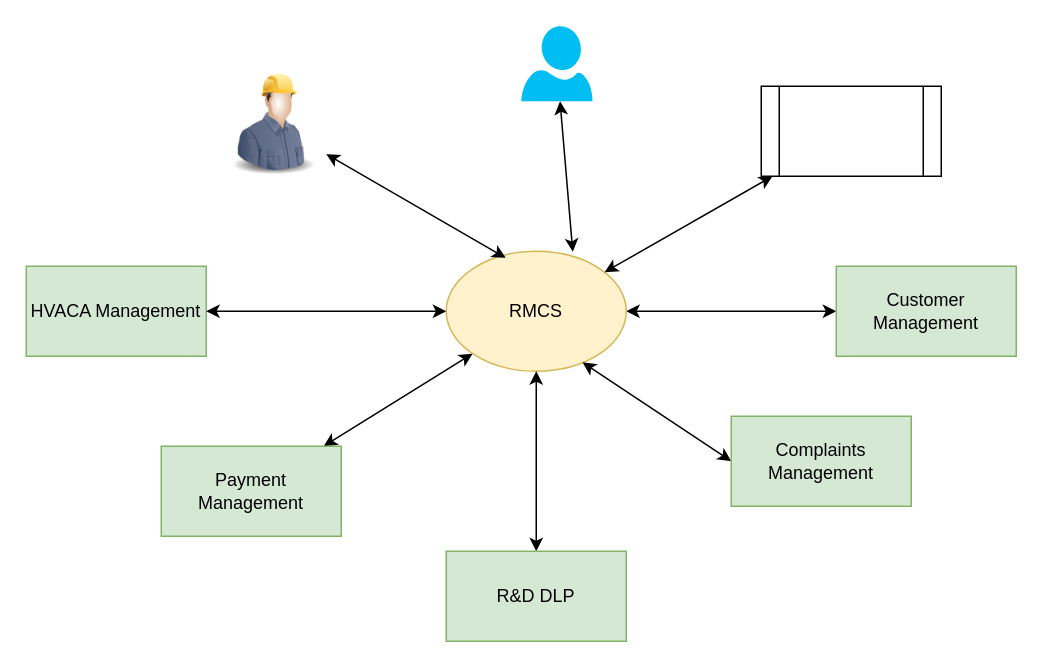
Some shapes in this 1043 by 668 pixel diagram are drawn without their labels. Here are the shapes that lost their labels. From the top down, the box of each, then its label:
(520, 26, 592, 100): Customer
(220, 70, 326, 176): Technician
(760, 85, 941, 176): GPRS mapping
